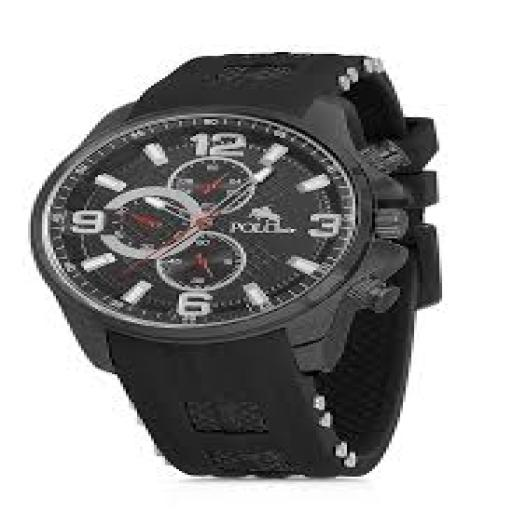KolSaati: (0, 23, 503, 476)
